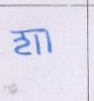aa_matra: (45, 30, 52, 52)
